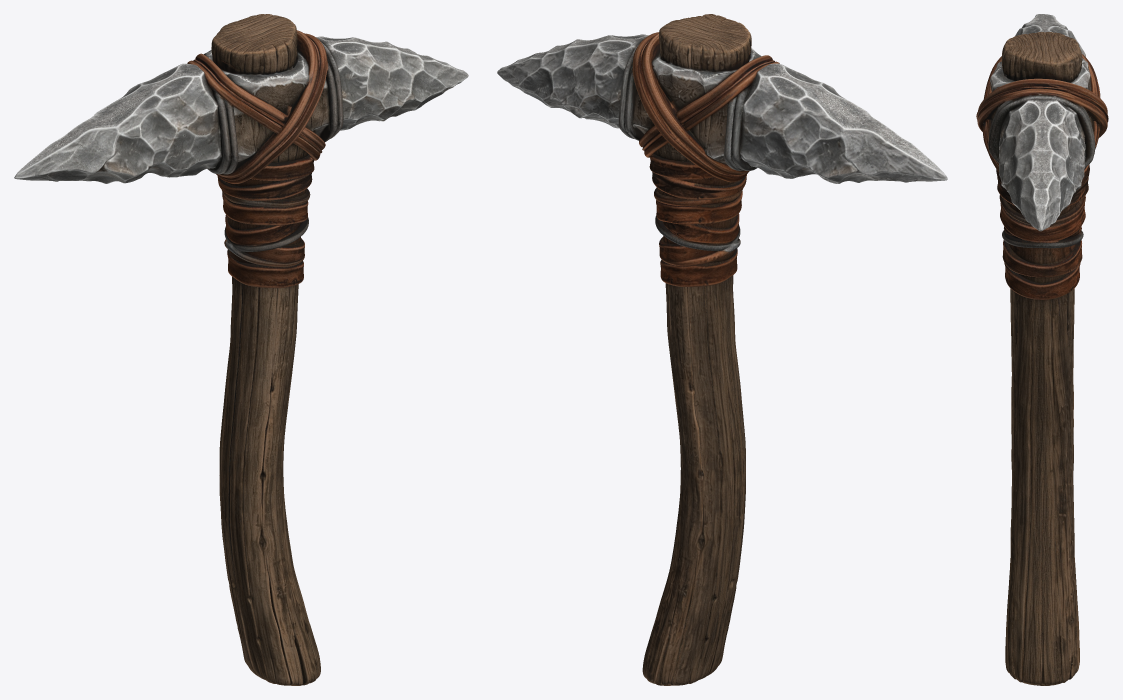
Rendered from Meshy_AI_Tool_3_Stone_Pickaxe_20261107_image-to-3d-texture.fbx.
3 renders of one model, left to right at view 1: azimuth 30°, elevation 25°; view 2: azimuth 150°, elevation 25°; view 3: azimuth 270°, elevation 25°, orthographic. The views are drawn at different scales.
Parts seen in each view (by area): view 1: Mesh_0; view 2: Mesh_0; view 3: Mesh_0.
Part boxes in pixels (left/top/right/bottom): Mesh_0: left=14, top=14, right=468, bottom=685; Mesh_0: left=497, top=14, right=947, bottom=685; Mesh_0: left=976, top=14, right=1108, bottom=685.
Size of the model in its own units: 137 by 190 by 36.59.
Materials: 1 (1 with a texture image).
